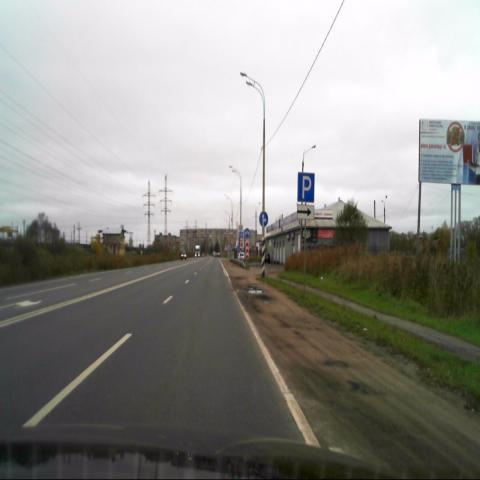4_1_4: (259, 211, 268, 227)
6_4: (297, 172, 314, 203)
8_3_1: (297, 205, 314, 220)
